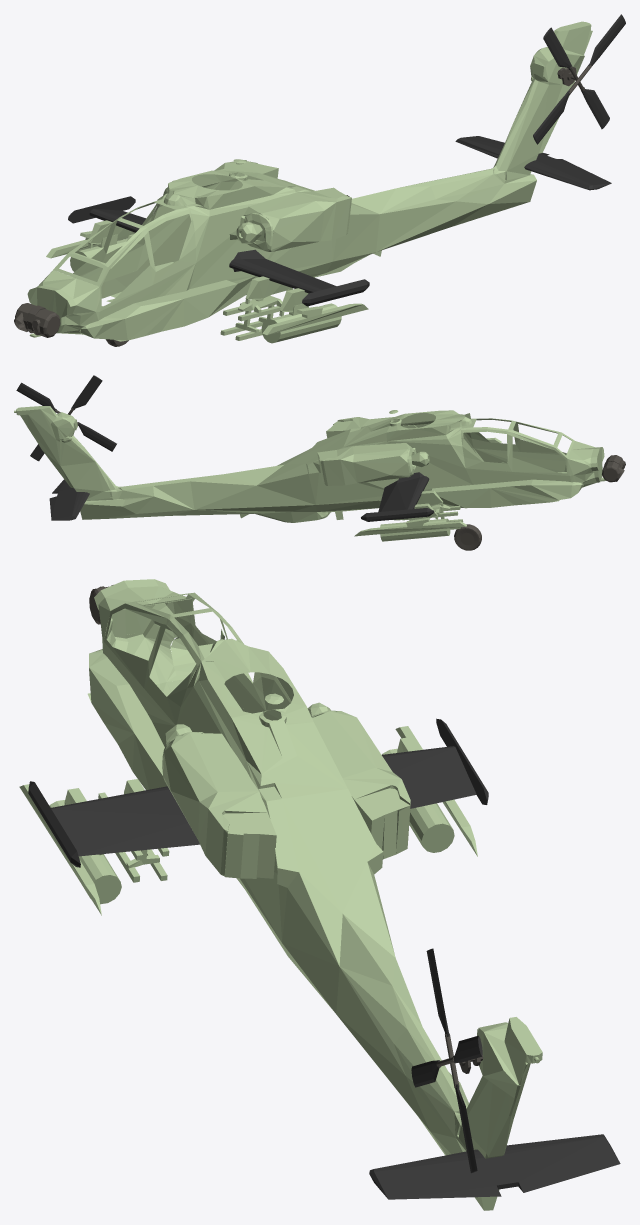
The model's file is 05 Broken_helicopter1.FBX.
The picture shows the model from 3 angles, top to bottom: view 1: azimuth 30°, elevation 25°; view 2: azimuth 150°, elevation 25°; view 3: azimuth 270°, elevation 25°; orthographic projection. The views are drawn at different scales.
Parts seen in each view (by area): view 1: Broken_helicopter2; view 2: Broken_helicopter2; view 3: Broken_helicopter2.
Boxes of the visible parts, x1,y1,x2,y2 form: Broken_helicopter2: (14,14,625,346); Broken_helicopter2: (14,375,625,550); Broken_helicopter2: (19,579,620,1210).
Size of the model in its own units: 5235 by 1298 by 2620.
